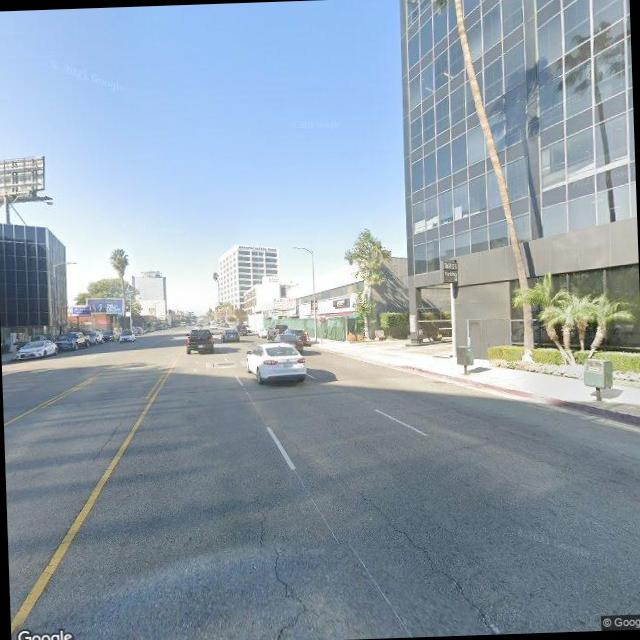pothole: (350, 480, 516, 638), (249, 500, 310, 640)
